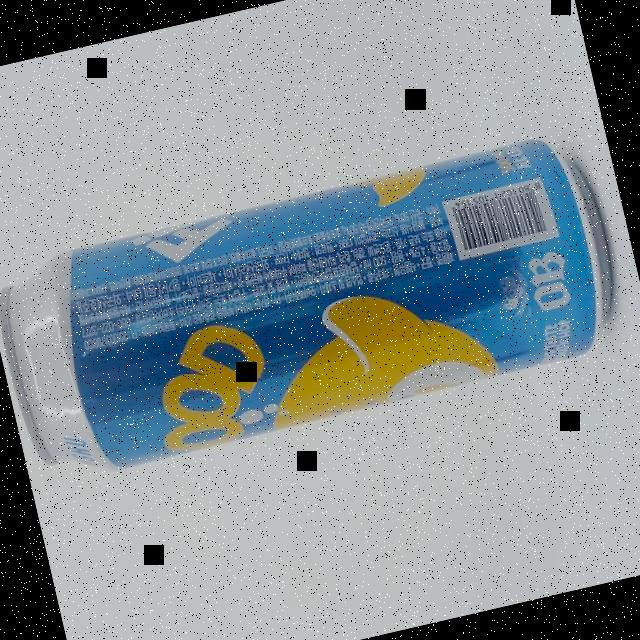can: (0, 128, 630, 490)
